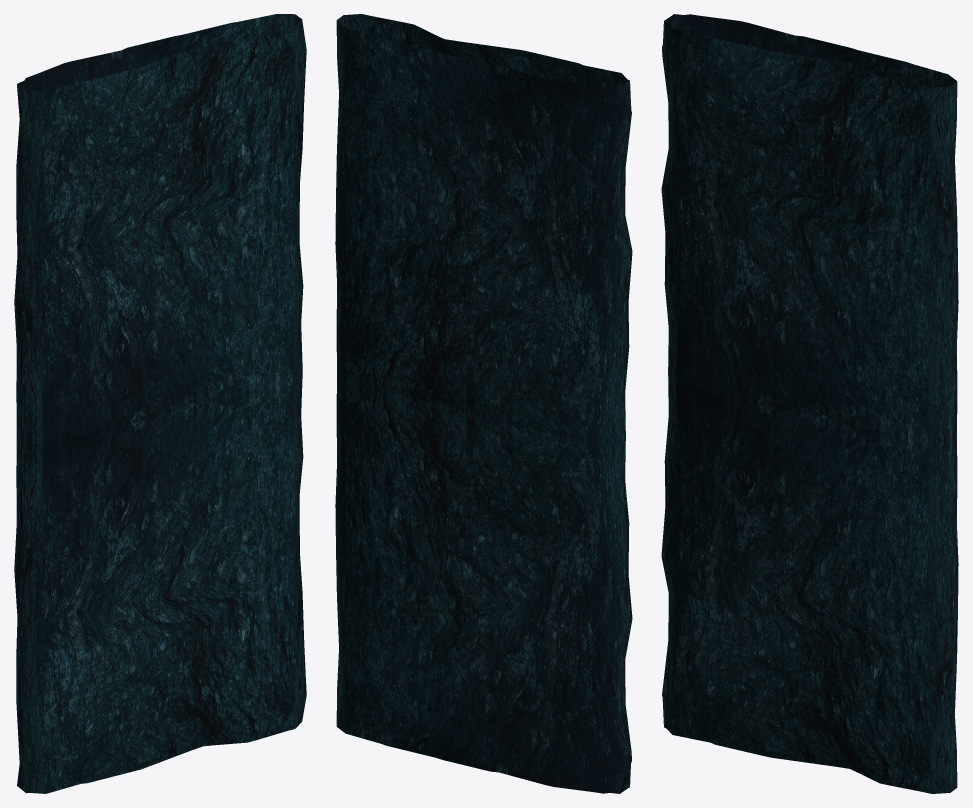
Rendered from wall_right.fbx.
The picture shows the model from 3 angles, left to right: view 1: azimuth 30°, elevation 25°; view 2: azimuth 150°, elevation 25°; view 3: azimuth 330°, elevation 25°; orthographic projection.
Visible parts, largest first — view 1: Sklála.1; view 2: Sklála.1; view 3: Sklála.1.
Boxes of the visible parts, x1,y1,x2,y2 form: Sklála.1: (14,14,306,793); Sklála.1: (335,14,632,793); Sklála.1: (661,14,958,793).
Size of the model in its own units: 1577 by 3706 by 328.
Materials: 1 (1 with a texture image).
